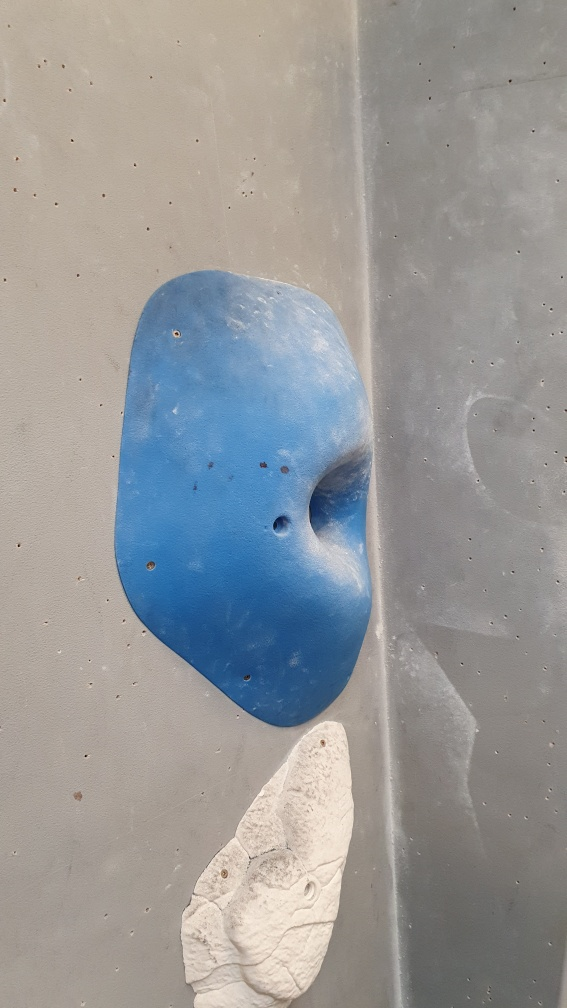Pocket: (115, 271, 373, 727)
